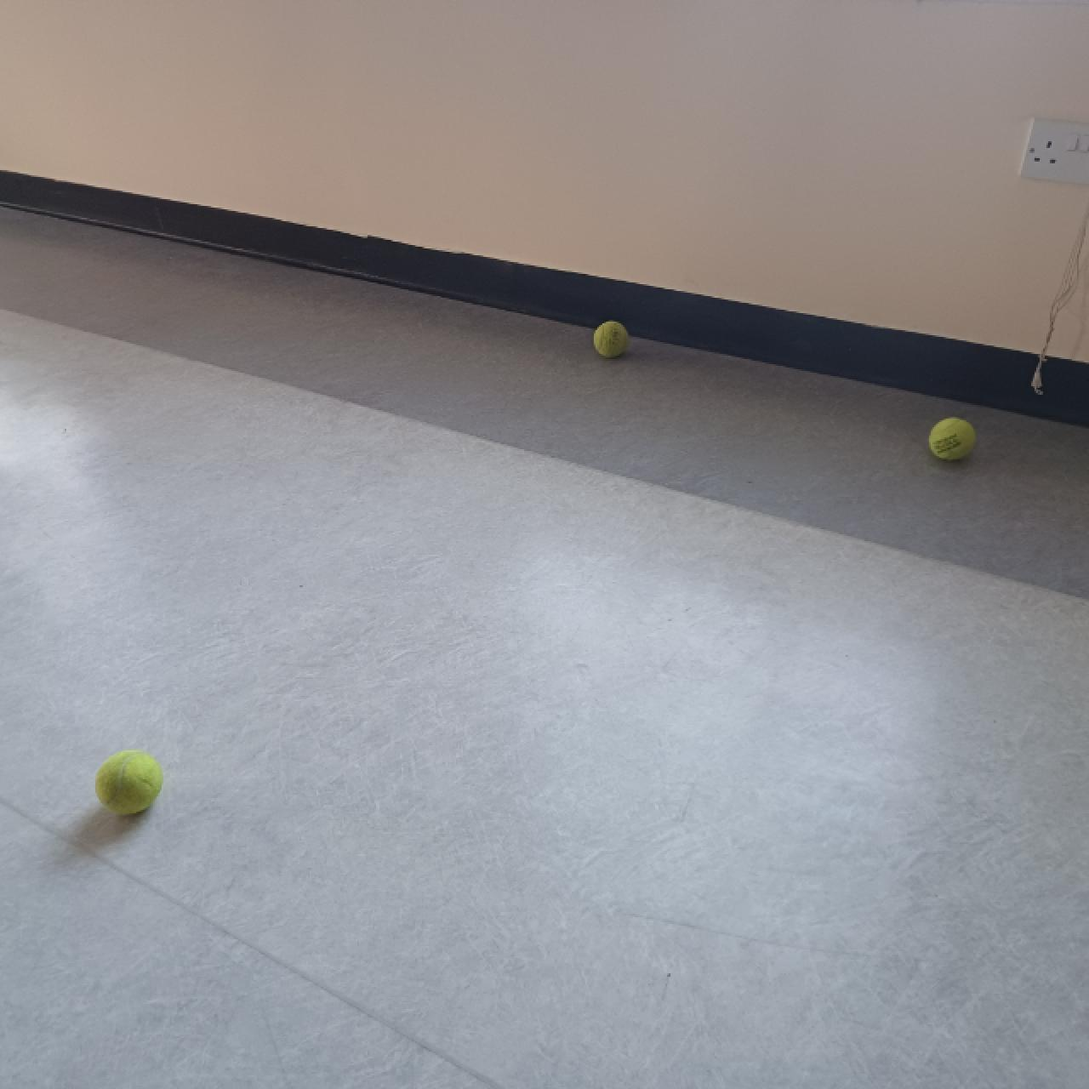tennis-ball: (90, 743, 172, 826), (925, 410, 979, 469), (588, 316, 631, 359)
